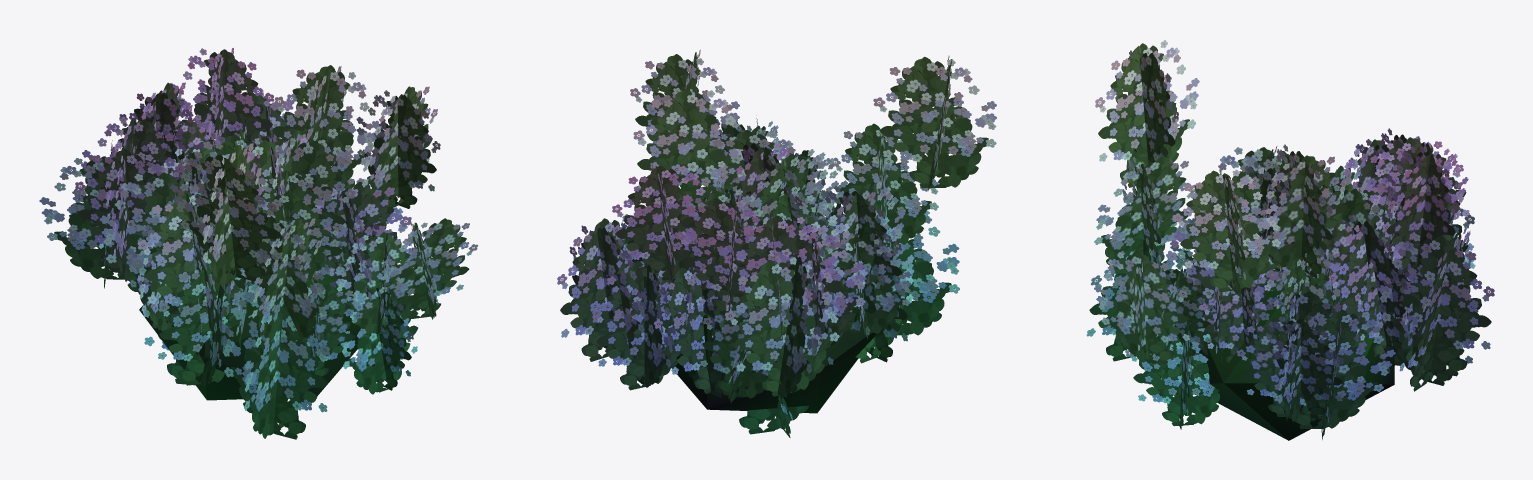
Rendered from nat_bush_flowering_a_LOD1.glb.
3 renders of one model, left to right at view 1: azimuth 30°, elevation 25°; view 2: azimuth 150°, elevation 25°; view 3: azimuth 270°, elevation 25°, orthographic.
Parts seen in each view (by area): view 1: geometry_0; view 2: geometry_0; view 3: geometry_0.
Boxes of the visible parts, x1=… form: geometry_0: x1=39, y1=48, x2=478, y2=439; geometry_0: x1=557, y1=49, x2=996, y2=437; geometry_0: x1=1086, y1=40, x2=1494, y2=440.
Bounding box in the file's own units: 1.37 × 1.26 × 1.6.
Materials: 1 (1 with a texture image).
